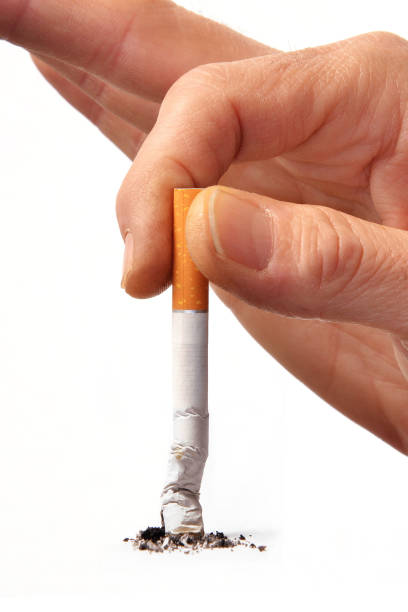cigarette: (157, 184, 210, 537)
